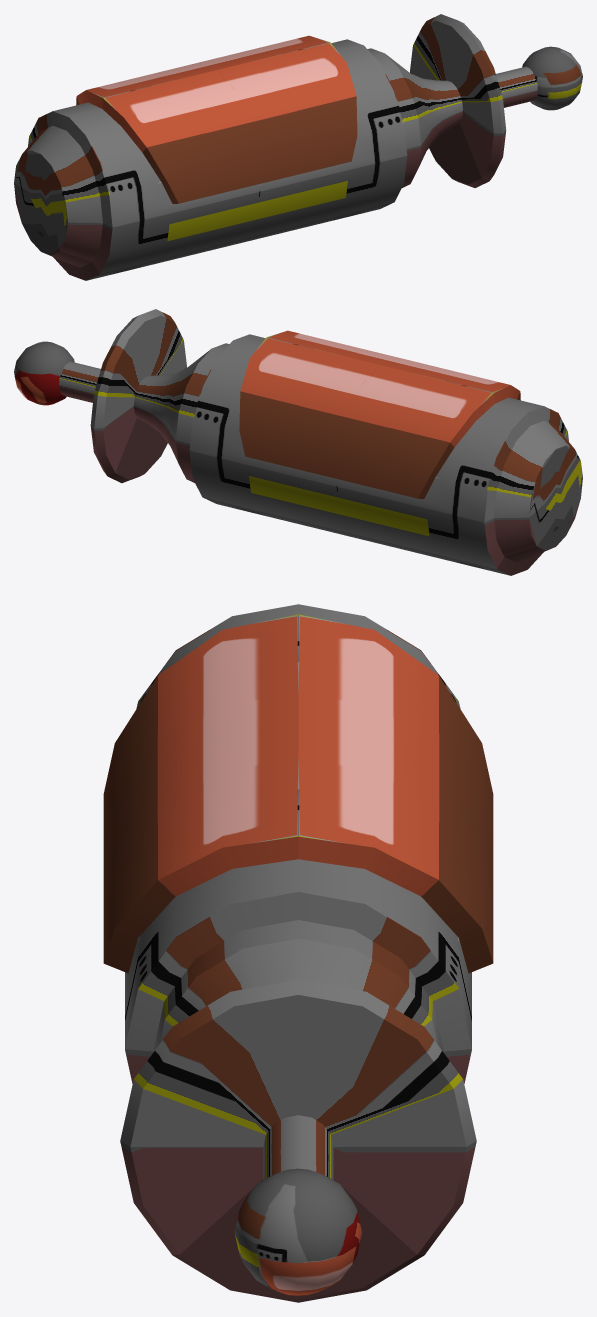
File: turret_5_1.glb
3 renders of one model, top to bottom at view 1: azimuth 30°, elevation 25°; view 2: azimuth 150°, elevation 25°; view 3: azimuth 270°, elevation 25°, orthographic. The views are drawn at different scales.
Parts seen in each view (by area): view 1: Turret1; view 2: Turret1; view 3: Turret1.
Boxes of the visible parts, <box> form: Turret1: <box>14,14,582,280</box>; Turret1: <box>14,309,582,575</box>; Turret1: <box>103,604,493,1302</box>.
Size of the model in its own units: 4.94 by 1.5 by 1.55.
Materials: 6 (6 with a texture image).
